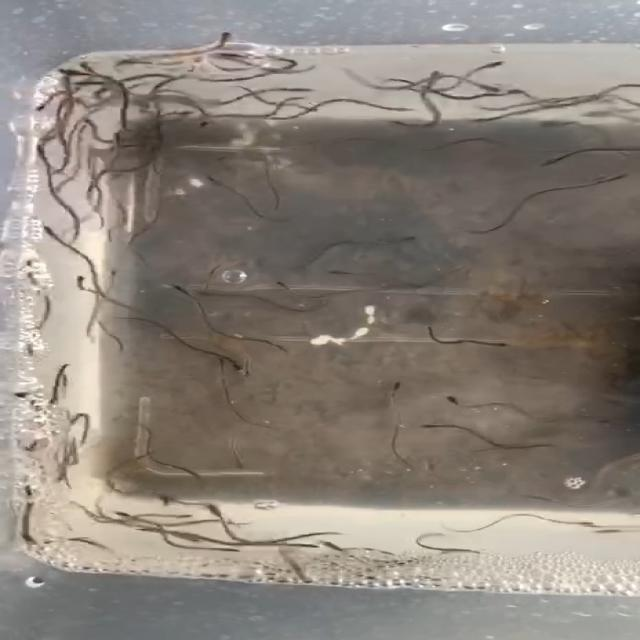inactive_glass_eel: (28, 219, 77, 236), (238, 363, 272, 387), (198, 30, 247, 45), (536, 148, 572, 168), (276, 278, 312, 298), (460, 112, 500, 129), (59, 64, 96, 82), (433, 392, 472, 409), (117, 508, 151, 527), (151, 278, 188, 294), (607, 167, 637, 186), (381, 227, 413, 243), (480, 58, 508, 76), (224, 457, 252, 473), (314, 538, 343, 553), (387, 380, 411, 398), (464, 80, 494, 94), (210, 151, 240, 165), (66, 273, 92, 289), (168, 512, 214, 521), (198, 118, 226, 132), (418, 64, 441, 81), (186, 175, 223, 185), (72, 114, 105, 125), (101, 264, 118, 284), (32, 98, 56, 112), (416, 418, 438, 432), (20, 256, 40, 271), (486, 337, 510, 349), (566, 514, 592, 525), (499, 86, 523, 97), (328, 267, 352, 278), (152, 106, 184, 114), (90, 173, 104, 189), (81, 60, 107, 68), (221, 357, 243, 364), (154, 496, 166, 505)
